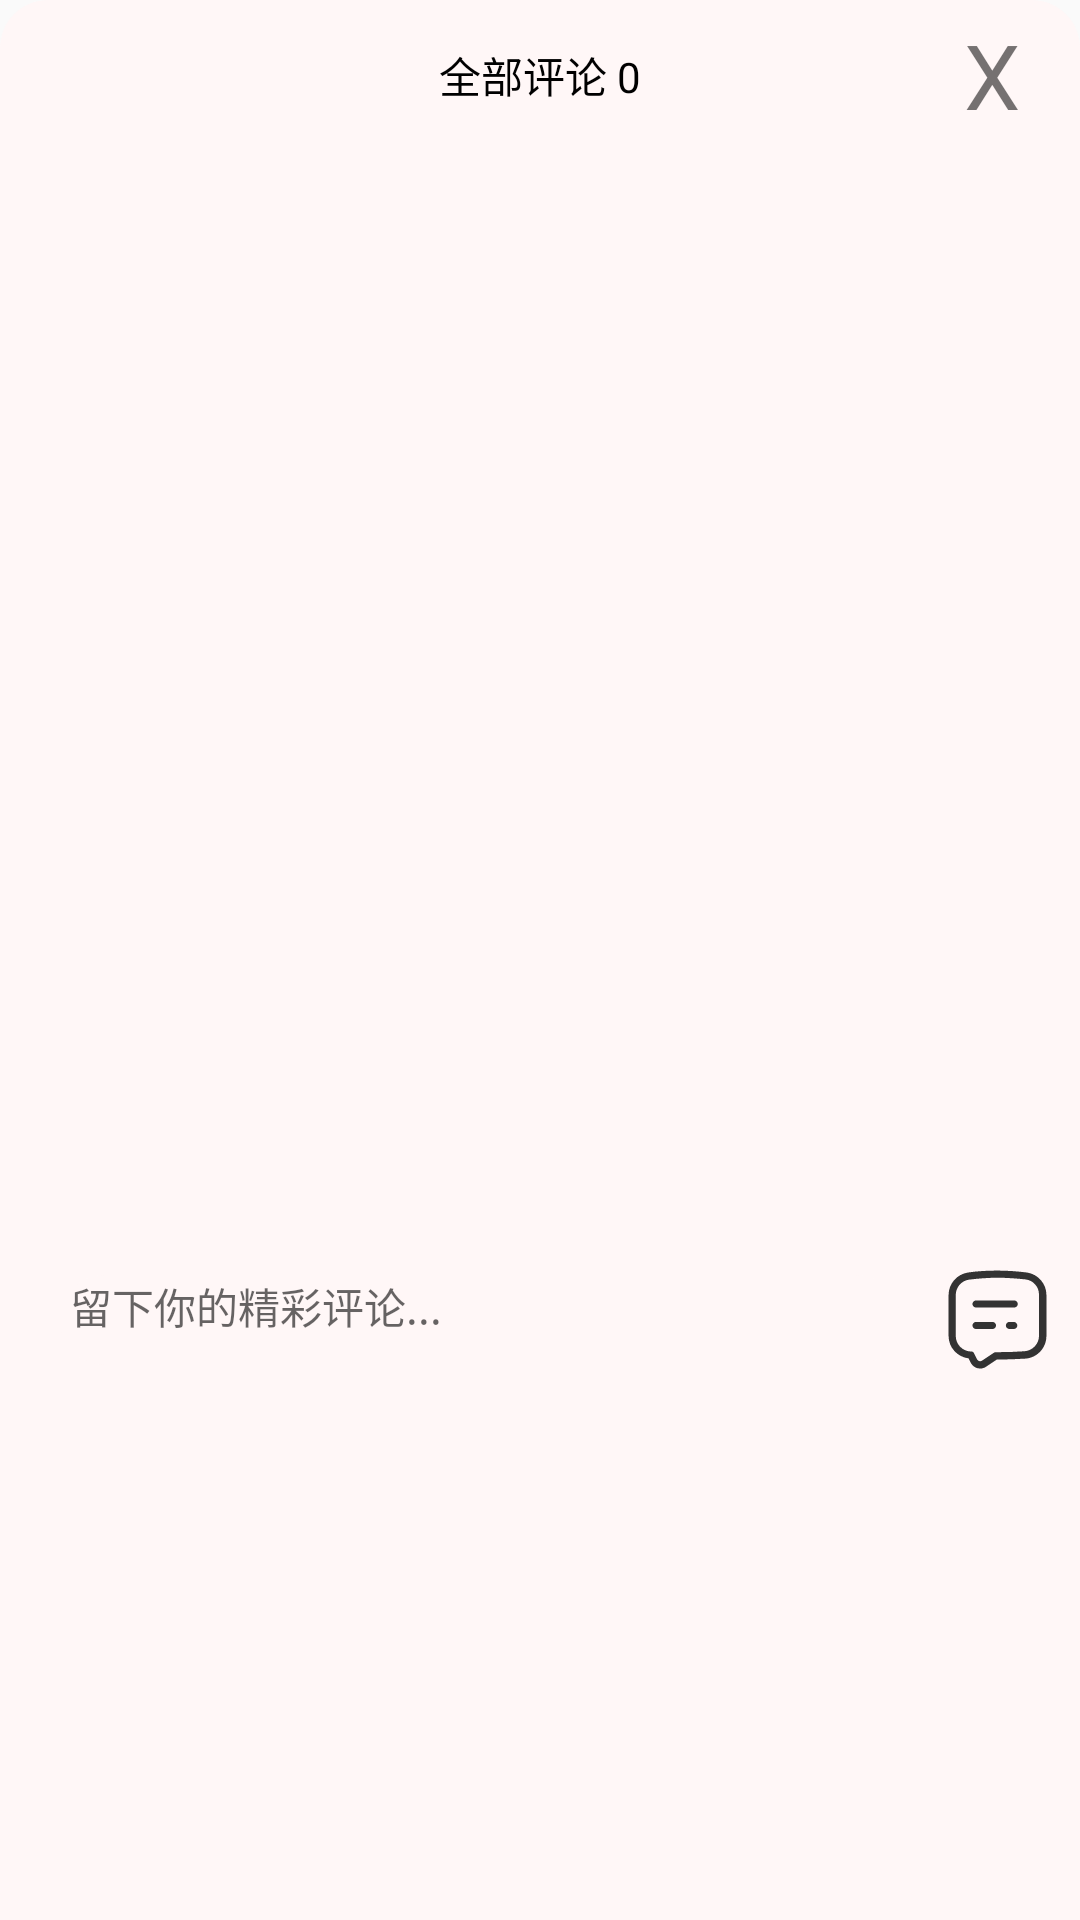

Icons on this 1080px×1920px Android screen, each with the point to tap as (x,y):
comment: (997,1319)
